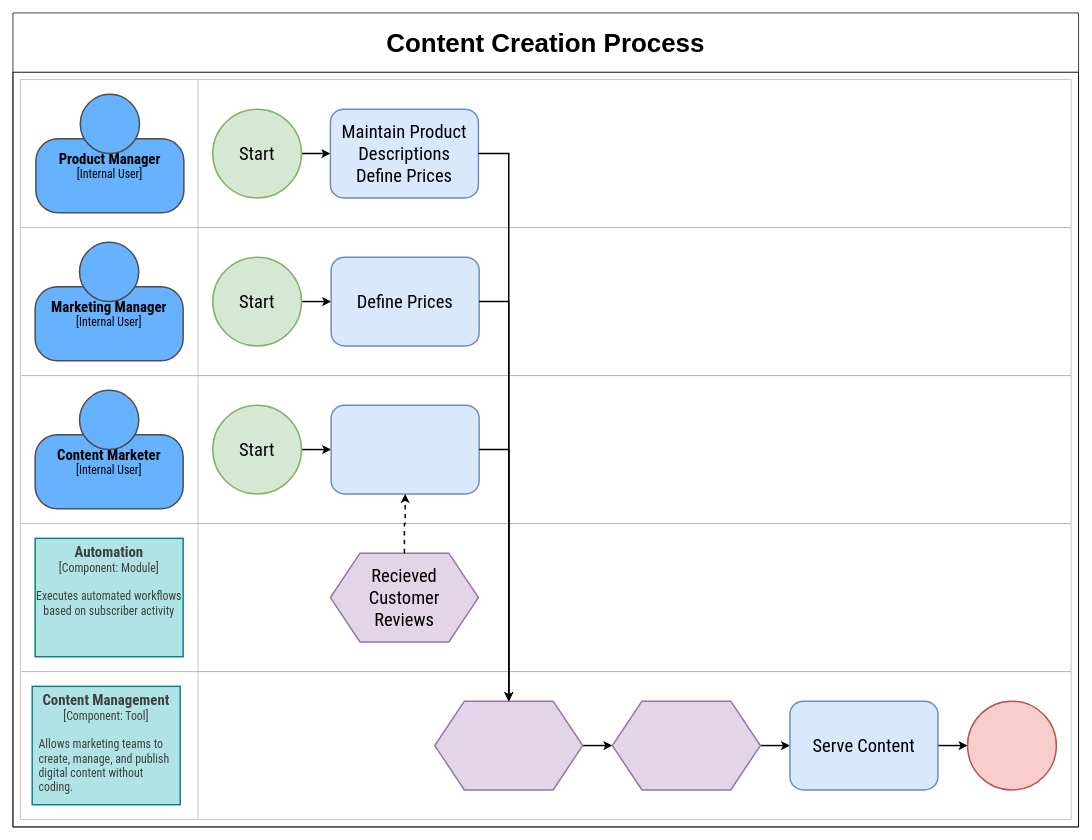
Image size: 1092x840. Some labels were removed from this diagram. Each missing label, with the box of its shape:
Content: (611, 700, 761, 790)
Content Metadata: (434, 700, 583, 790)
Create Content Record Product Demos Select Reviews: (330, 404, 480, 494)
End: (966, 700, 1057, 790)
